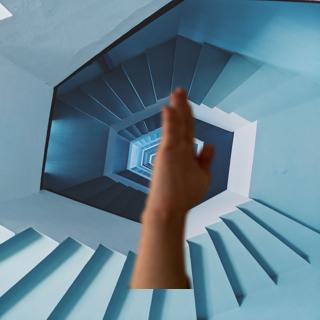RIGHT: (143, 81, 219, 232)
